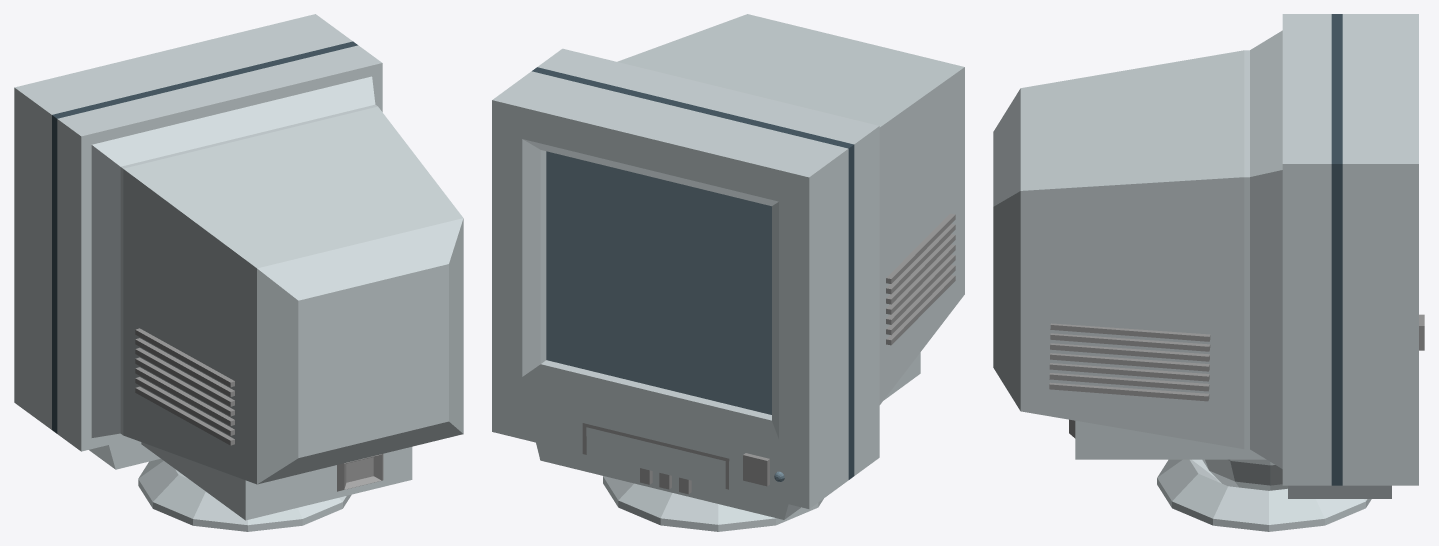
File: CRTMonitor-transformed.glb
3 renders of one model, left to right at view 1: azimuth 30°, elevation 25°; view 2: azimuth 150°, elevation 25°; view 3: azimuth 270°, elevation 25°, orthographic. The views are drawn at different scales.
Parts seen in each view (by area): view 1: Node; view 2: Node; view 3: Node.
Boxes of the visible parts, left/top/right/bottom form: Node: left=14, top=14, right=463, bottom=531; Node: left=492, top=14, right=964, bottom=531; Node: left=993, top=14, right=1424, bottom=531.
Size of the model in its own units: 0.65 by 0.7904 by 0.7902.
